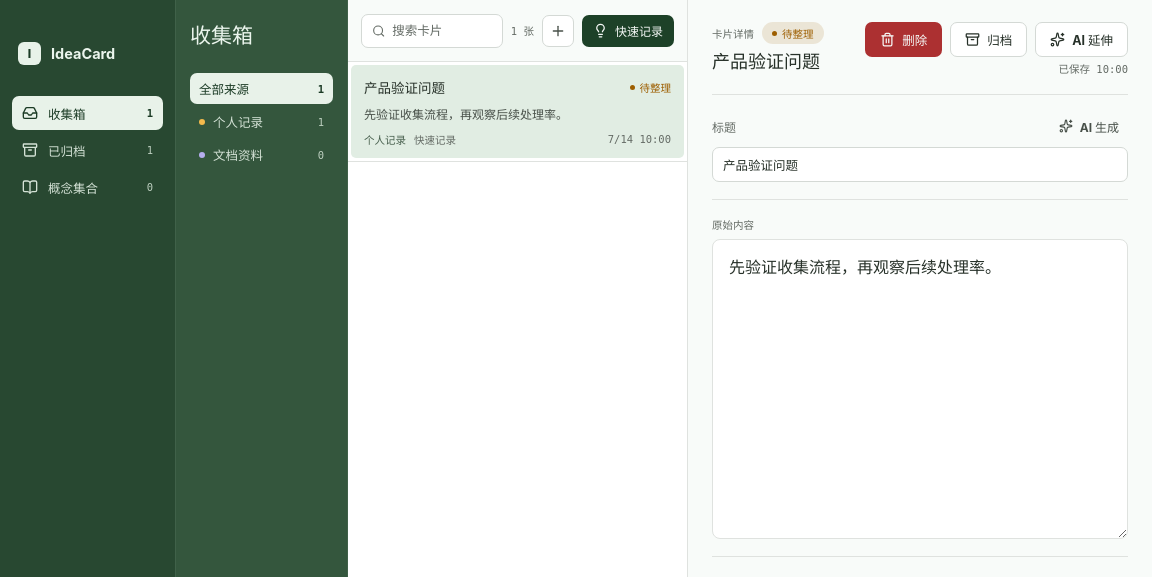
Test: InboxPage › restores an archived card back to the inbox
Click the button "已归档 1": [88, 150] box [12,133,163,167]
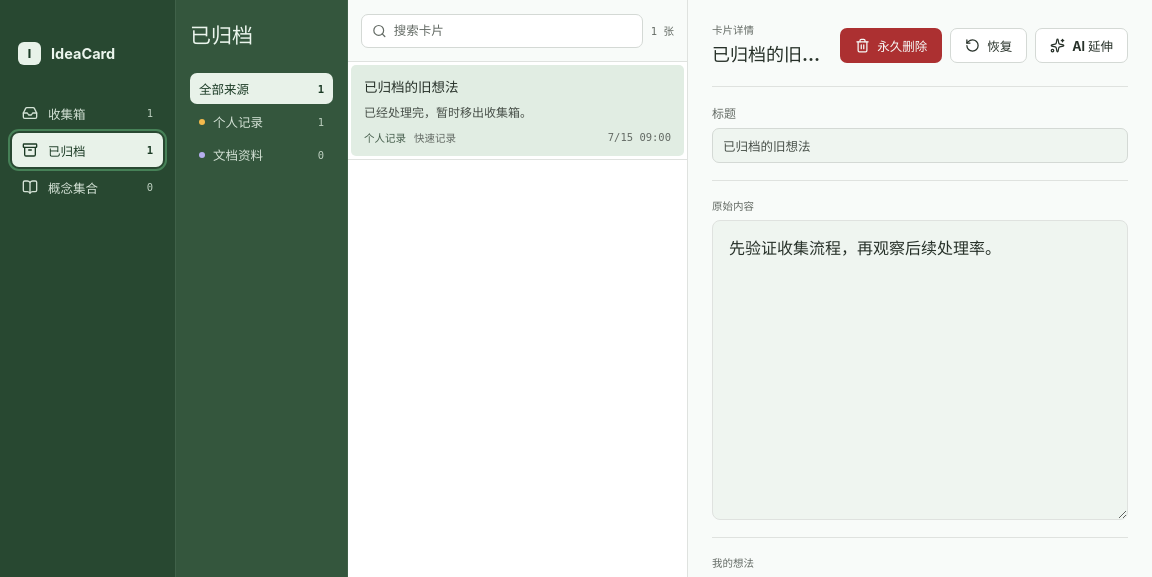
Now the heading "已归档的旧想法" is shown, box [712,42,824,68]
Click the button "恢复": [989, 45] box [950,28,1027,62]
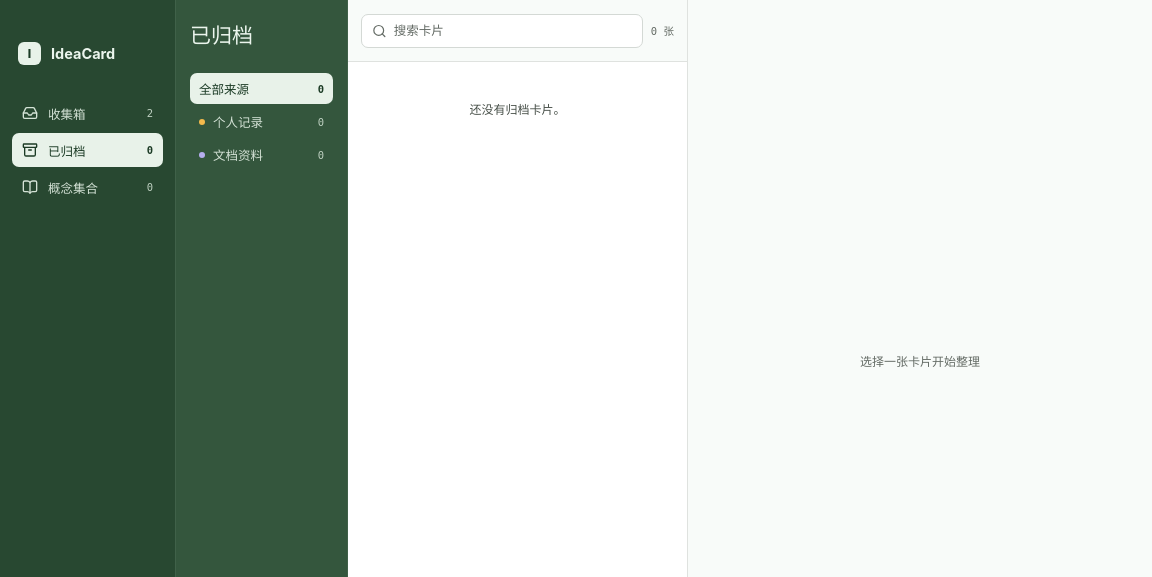
Now the text "还没有归档卡片。" is shown, box [470,102,566,117]
Now the button "收集箱 2" is shown, box [12,96,163,130]
